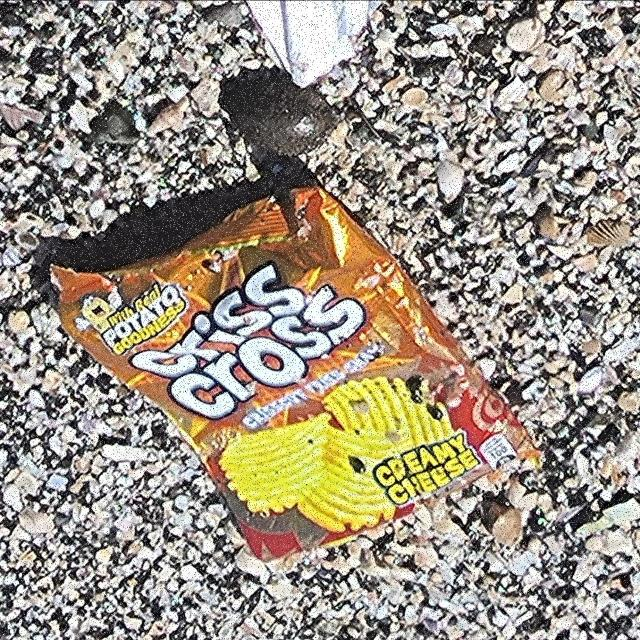plastic_waste: (47, 183, 544, 563)
